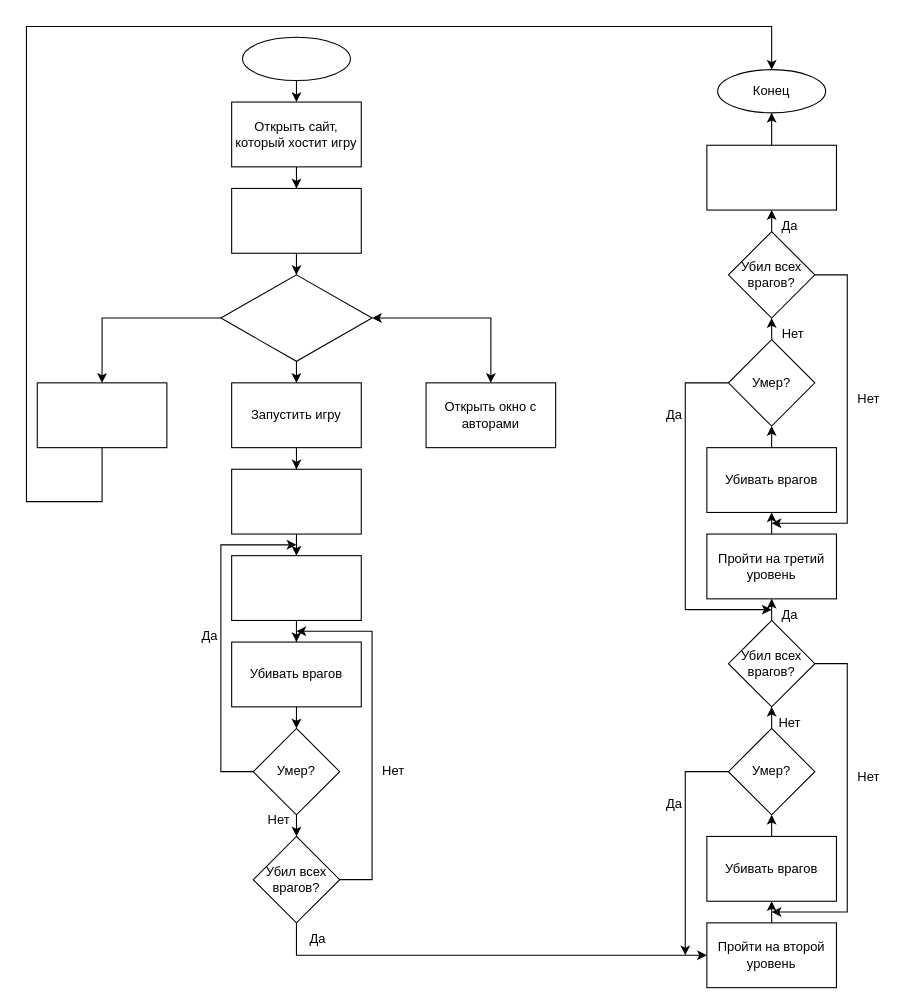
The diagram is 920 pixels wide and 1007 high, and some of its shapes have lost their labels. Each missing label, with the box of its shape:
Выбор действия: (220, 274, 372, 361)
Выйти из игры: (36, 382, 167, 448)
Демо-конец: (706, 144, 836, 210)
Начало: (241, 36, 350, 80)
Открытие меню: (231, 187, 361, 253)
Пройти на первый уровень: (231, 555, 361, 620)
Пройти сюжетную часть: (231, 468, 361, 534)
